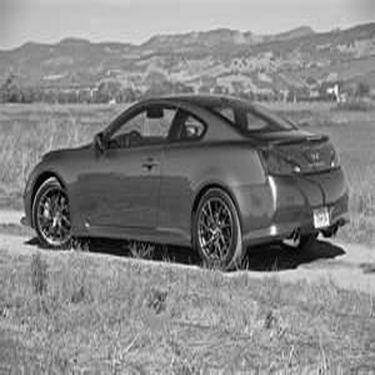car: (18, 90, 353, 274)
